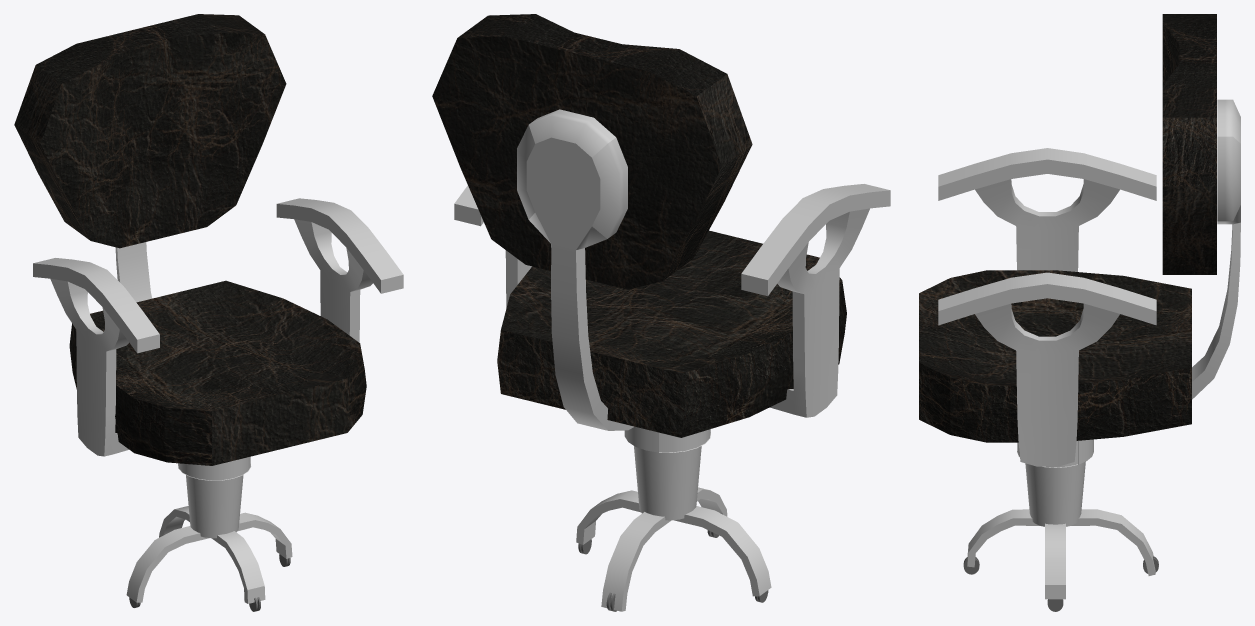
File: CadeiraRecepcaoRoda.fbx
3 views of the same model, side by side, from view 1: azimuth 30°, elevation 25°; view 2: azimuth 150°, elevation 25°; view 3: azimuth 270°, elevation 25° (orthographic). The views are drawn at different scales.
Visible parts, largest first — view 1: pCube2, pCube1, pCube7, pCube6, pCylinder1, pCube8, pCube9, pCube5; view 2: pCube2, pCube1, pCube5, pCube7, pCylinder1, pCube8, pCube9, pCube6; view 3: pCube1, pCube6, pCube2, pCube7, pCube5, pCylinder1, pCube9, pCube8.
Boxes of the visible parts, box(x1,y1,x2,y2) form: pCube2: box(14, 14, 286, 248); pCube1: box(69, 280, 366, 465); pCube7: box(33, 258, 159, 456); pCube6: box(276, 198, 403, 342); pCylinder1: box(178, 456, 251, 538); pCube8: box(126, 512, 292, 602); pCube9: box(159, 506, 265, 603); pCube5: box(115, 242, 152, 302); pCube2: box(432, 14, 752, 289); pCube1: box(497, 230, 846, 437); pCube5: box(517, 109, 633, 430); pCube7: box(741, 184, 890, 417); pCylinder1: box(624, 426, 710, 520); pCube8: box(576, 490, 771, 596); pCube9: box(601, 487, 727, 611); pCube6: box(454, 185, 531, 307); pCube1: box(919, 270, 1191, 442); pCube6: box(938, 272, 1156, 466); pCube2: box(1162, 14, 1216, 274); pCube7: box(938, 148, 1156, 271); pCube5: box(1192, 99, 1240, 399); pCylinder1: box(1017, 439, 1093, 526); pCube9: box(967, 509, 1155, 575); pCube8: box(1045, 523, 1065, 599).
Bounding box in the file's own units: 49.4 × 89.01 × 49.41.
